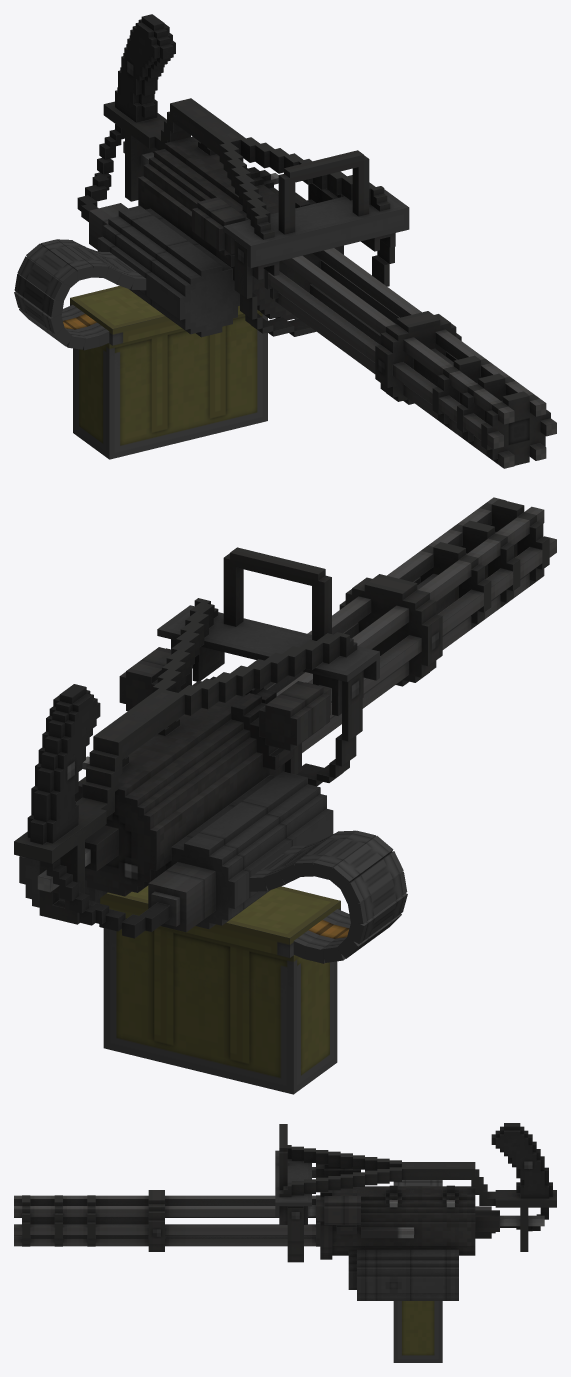
The model's file is RD_MINIGUN.glb.
The picture shows the model from 3 angles, top to bottom: view 1: azimuth 30°, elevation 25°; view 2: azimuth 150°, elevation 25°; view 3: azimuth 270°, elevation 25°; orthographic projection. The views are drawn at different scales.
Parts seen in each view (by area): view 1: MINIGUN, MINIGUN_BODY_P2, MINIGUN_CLIP_07, MINIGUN_CLIP_08, MINIGUN_CLIP_06, MINIGUN_CLIP_09, MINIGUN_CLIP_05, MINIGUN_CLIP_10, MINIGUN_CLIP_02, MINIGUN_CLIP_01; view 2: MINIGUN, MINIGUN_BODY_P2, MINIGUN_CLIP_08, MINIGUN_CLIP_07, MINIGUN_CLIP_06, MINIGUN_CLIP_09, MINIGUN_CLIP_05, MINIGUN_CLIP_10, MINIGUN_CLIP_02, MINIGUN_CLIP_01; view 3: MINIGUN, MINIGUN_BODY_P2.
Boxes of the visible parts, left/top/right/bottom form: MINIGUN: left=70, top=14, right=409, bottom=459; MINIGUN_BODY_P2: left=264, top=248, right=556, bottom=468; MINIGUN_CLIP_07: left=17, top=256, right=70, bottom=300; MINIGUN_CLIP_08: left=26, top=243, right=78, bottom=287; MINIGUN_CLIP_06: left=14, top=273, right=64, bottom=317; MINIGUN_CLIP_09: left=40, top=239, right=92, bottom=280; MINIGUN_CLIP_05: left=14, top=291, right=64, bottom=333; MINIGUN_CLIP_10: left=57, top=239, right=108, bottom=277; MINIGUN_CLIP_02: left=61, top=309, right=99, bottom=350; MINIGUN_CLIP_01: left=63, top=305, right=109, bottom=346; MINIGUN: left=14, top=547, right=379, bottom=1094; MINIGUN_BODY_P2: left=264, top=497, right=556, bottom=752; MINIGUN_CLIP_08: left=327, top=836, right=393, bottom=891; MINIGUN_CLIP_07: left=340, top=851, right=403, bottom=906; MINIGUN_CLIP_06: left=348, top=871, right=407, bottom=923; MINIGUN_CLIP_09: left=313, top=830, right=375, bottom=879; MINIGUN_CLIP_05: left=347, top=893, right=407, bottom=943; MINIGUN_CLIP_10: left=294, top=830, right=356, bottom=876; MINIGUN_CLIP_02: left=305, top=914, right=350, bottom=963; MINIGUN_CLIP_01: left=293, top=909, right=348, bottom=958; MINIGUN: left=275, top=1123, right=556, bottom=1362; MINIGUN_BODY_P2: left=14, top=1190, right=320, bottom=1251.
Size of the model in its own units: 0.5132 by 0.6102 by 1.31.
Materials: 1 (1 with a texture image).
